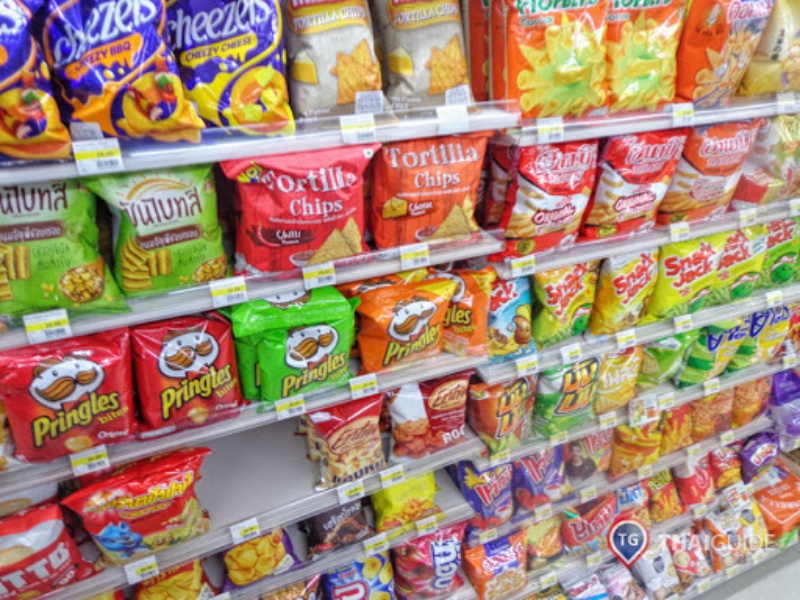chips: (41, 1, 212, 150), (223, 145, 387, 277), (99, 166, 246, 297), (3, 333, 145, 460), (130, 311, 261, 439), (375, 134, 493, 260), (350, 271, 467, 394), (243, 299, 367, 403)
